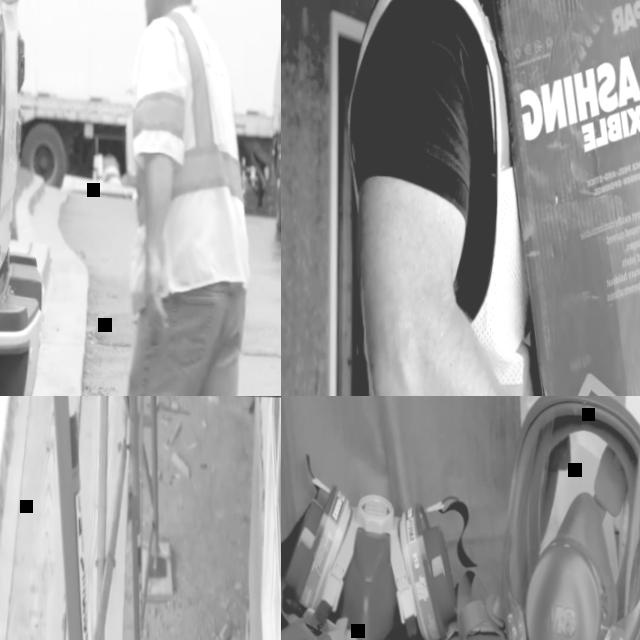Mask: (281, 453, 502, 640), (492, 396, 640, 640)
NO-Mask: (142, 0, 170, 25)
Person: (337, 0, 640, 396), (117, 0, 258, 396)
Safety Cone: (101, 154, 120, 182)
Safety Vest: (338, 0, 549, 396), (121, 7, 254, 311)
vehicle: (0, 0, 112, 396)
